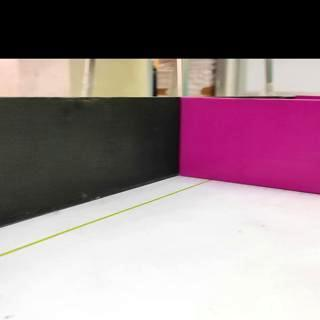xparking: (183, 97, 319, 191)
